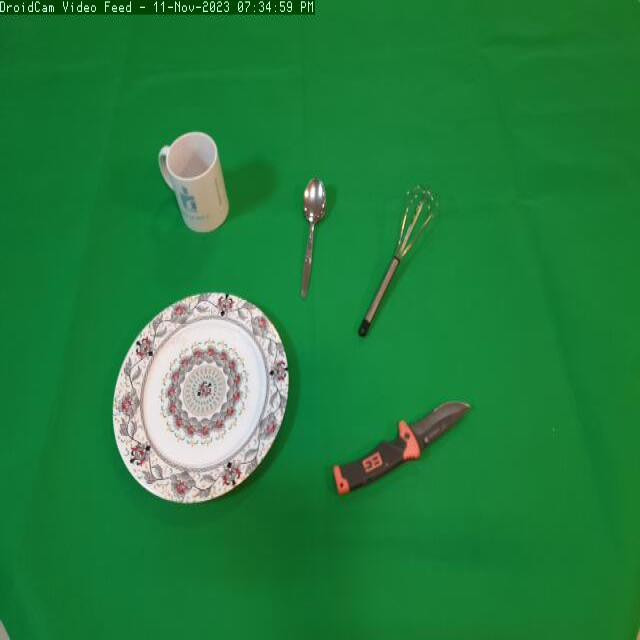cup: (155, 124, 234, 248)
knife: (326, 382, 483, 505)
plate: (106, 290, 294, 522)
spoon: (293, 172, 334, 303)
whisk: (350, 178, 450, 347)
